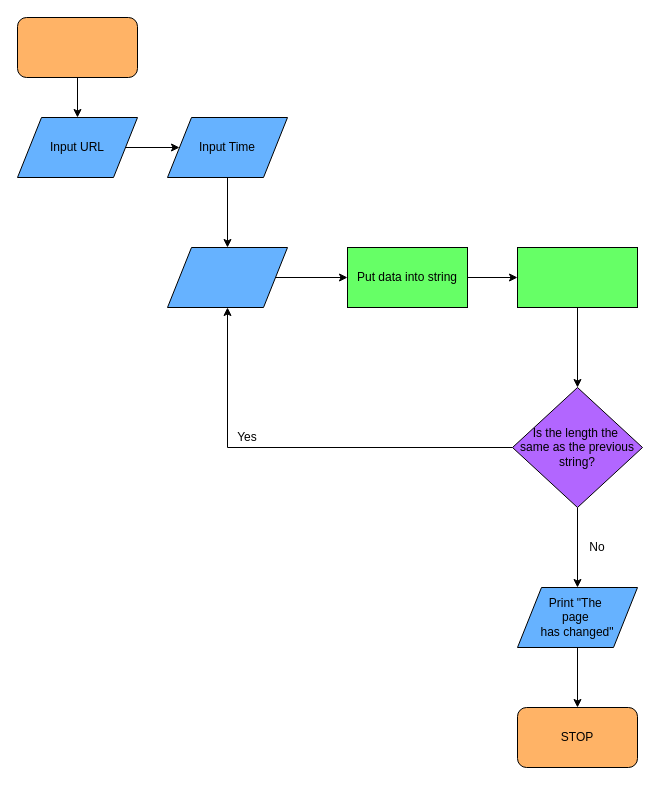
This 660x785 diagram has some shape labels left out. The shapes that lost their labels are listed below. From the top down, each one's box as (x1, y1, x2, y2) in pixels, then its label:
(16, 16, 138, 78): START
(166, 246, 288, 308): Pull data from website
(516, 246, 638, 308): Get length of string
